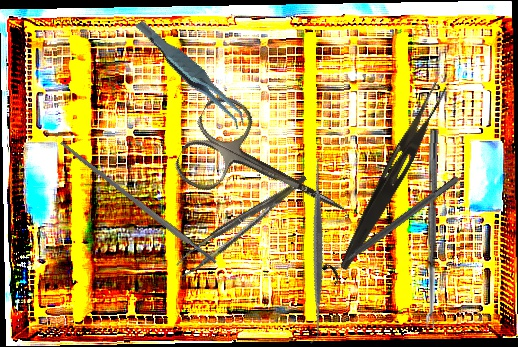Dressing Forceps: (336, 77, 449, 276)
Fixation Ring: (319, 168, 467, 287)
Iris Scissors: (169, 88, 369, 256)
Scalpel Handle: (58, 139, 218, 267)
Spatula Surgical: (223, 154, 412, 345)
Surgical Spoon: (425, 128, 438, 329)
Tissue Forceps: (134, 2, 249, 146), (169, 175, 318, 278)
